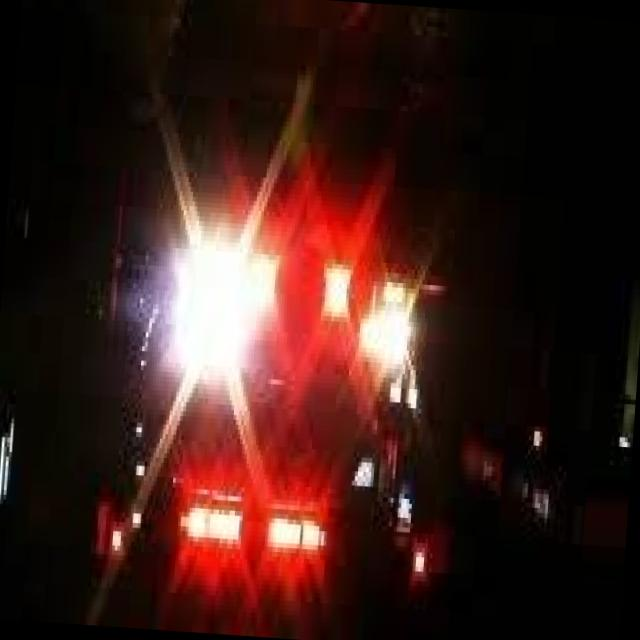ambulance: (94, 137, 435, 620)
